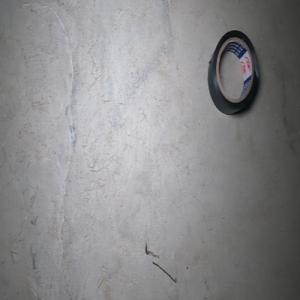Tape: (207, 29, 259, 115)
